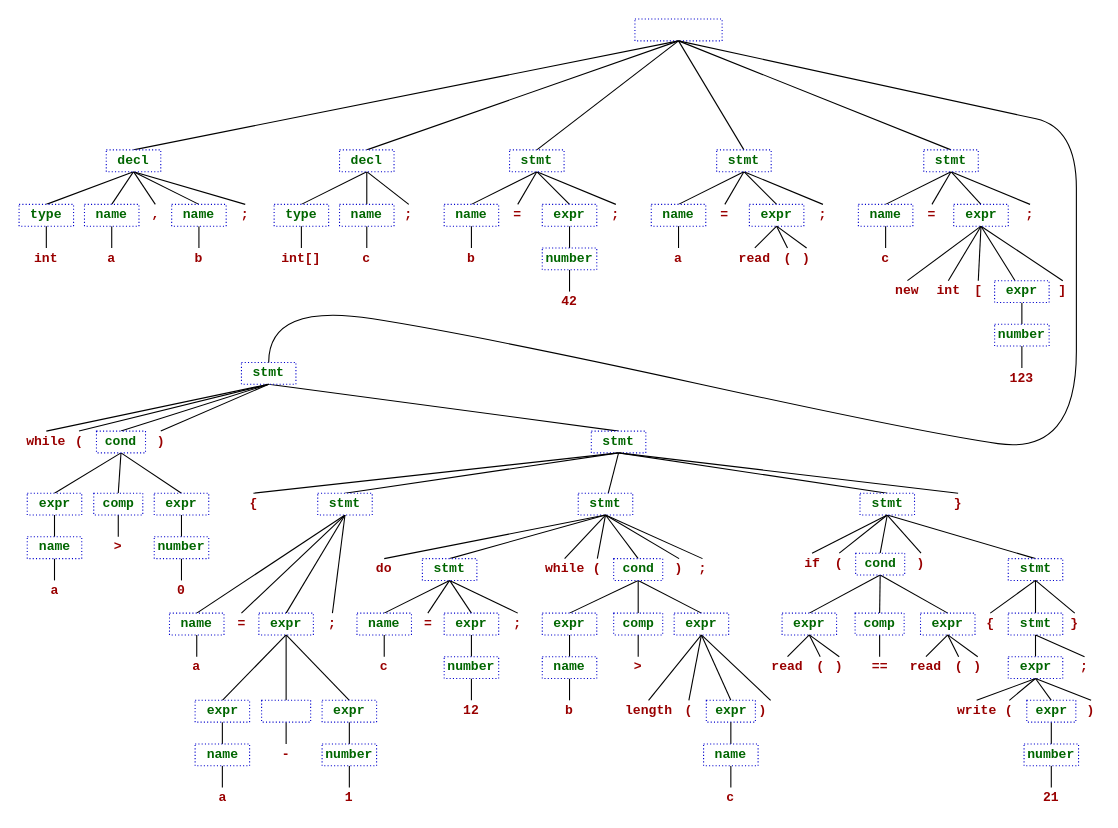
The diagram is 1118 pixels wide and 828 high, and some of its shapes have lost their labels. Here are the shapes that lost their labels. From the top down, the centre of each, then its label:
At point (678, 29): "Program".
At point (286, 710): "binop".
